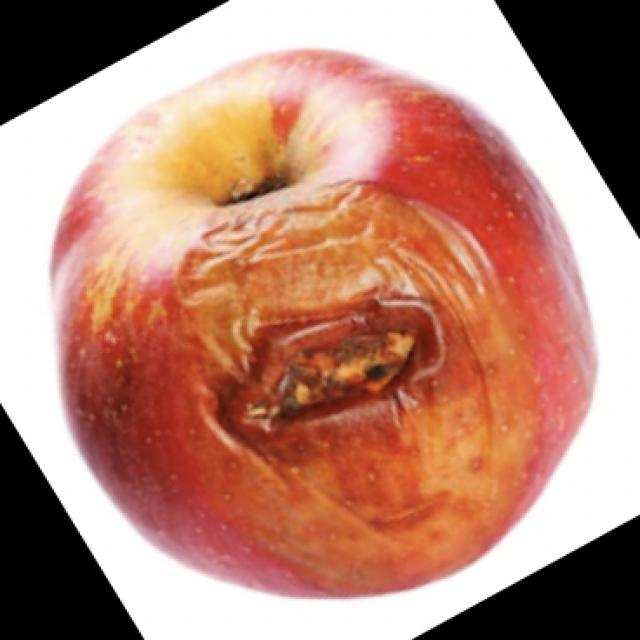Rotten: (41, 62, 596, 595)
